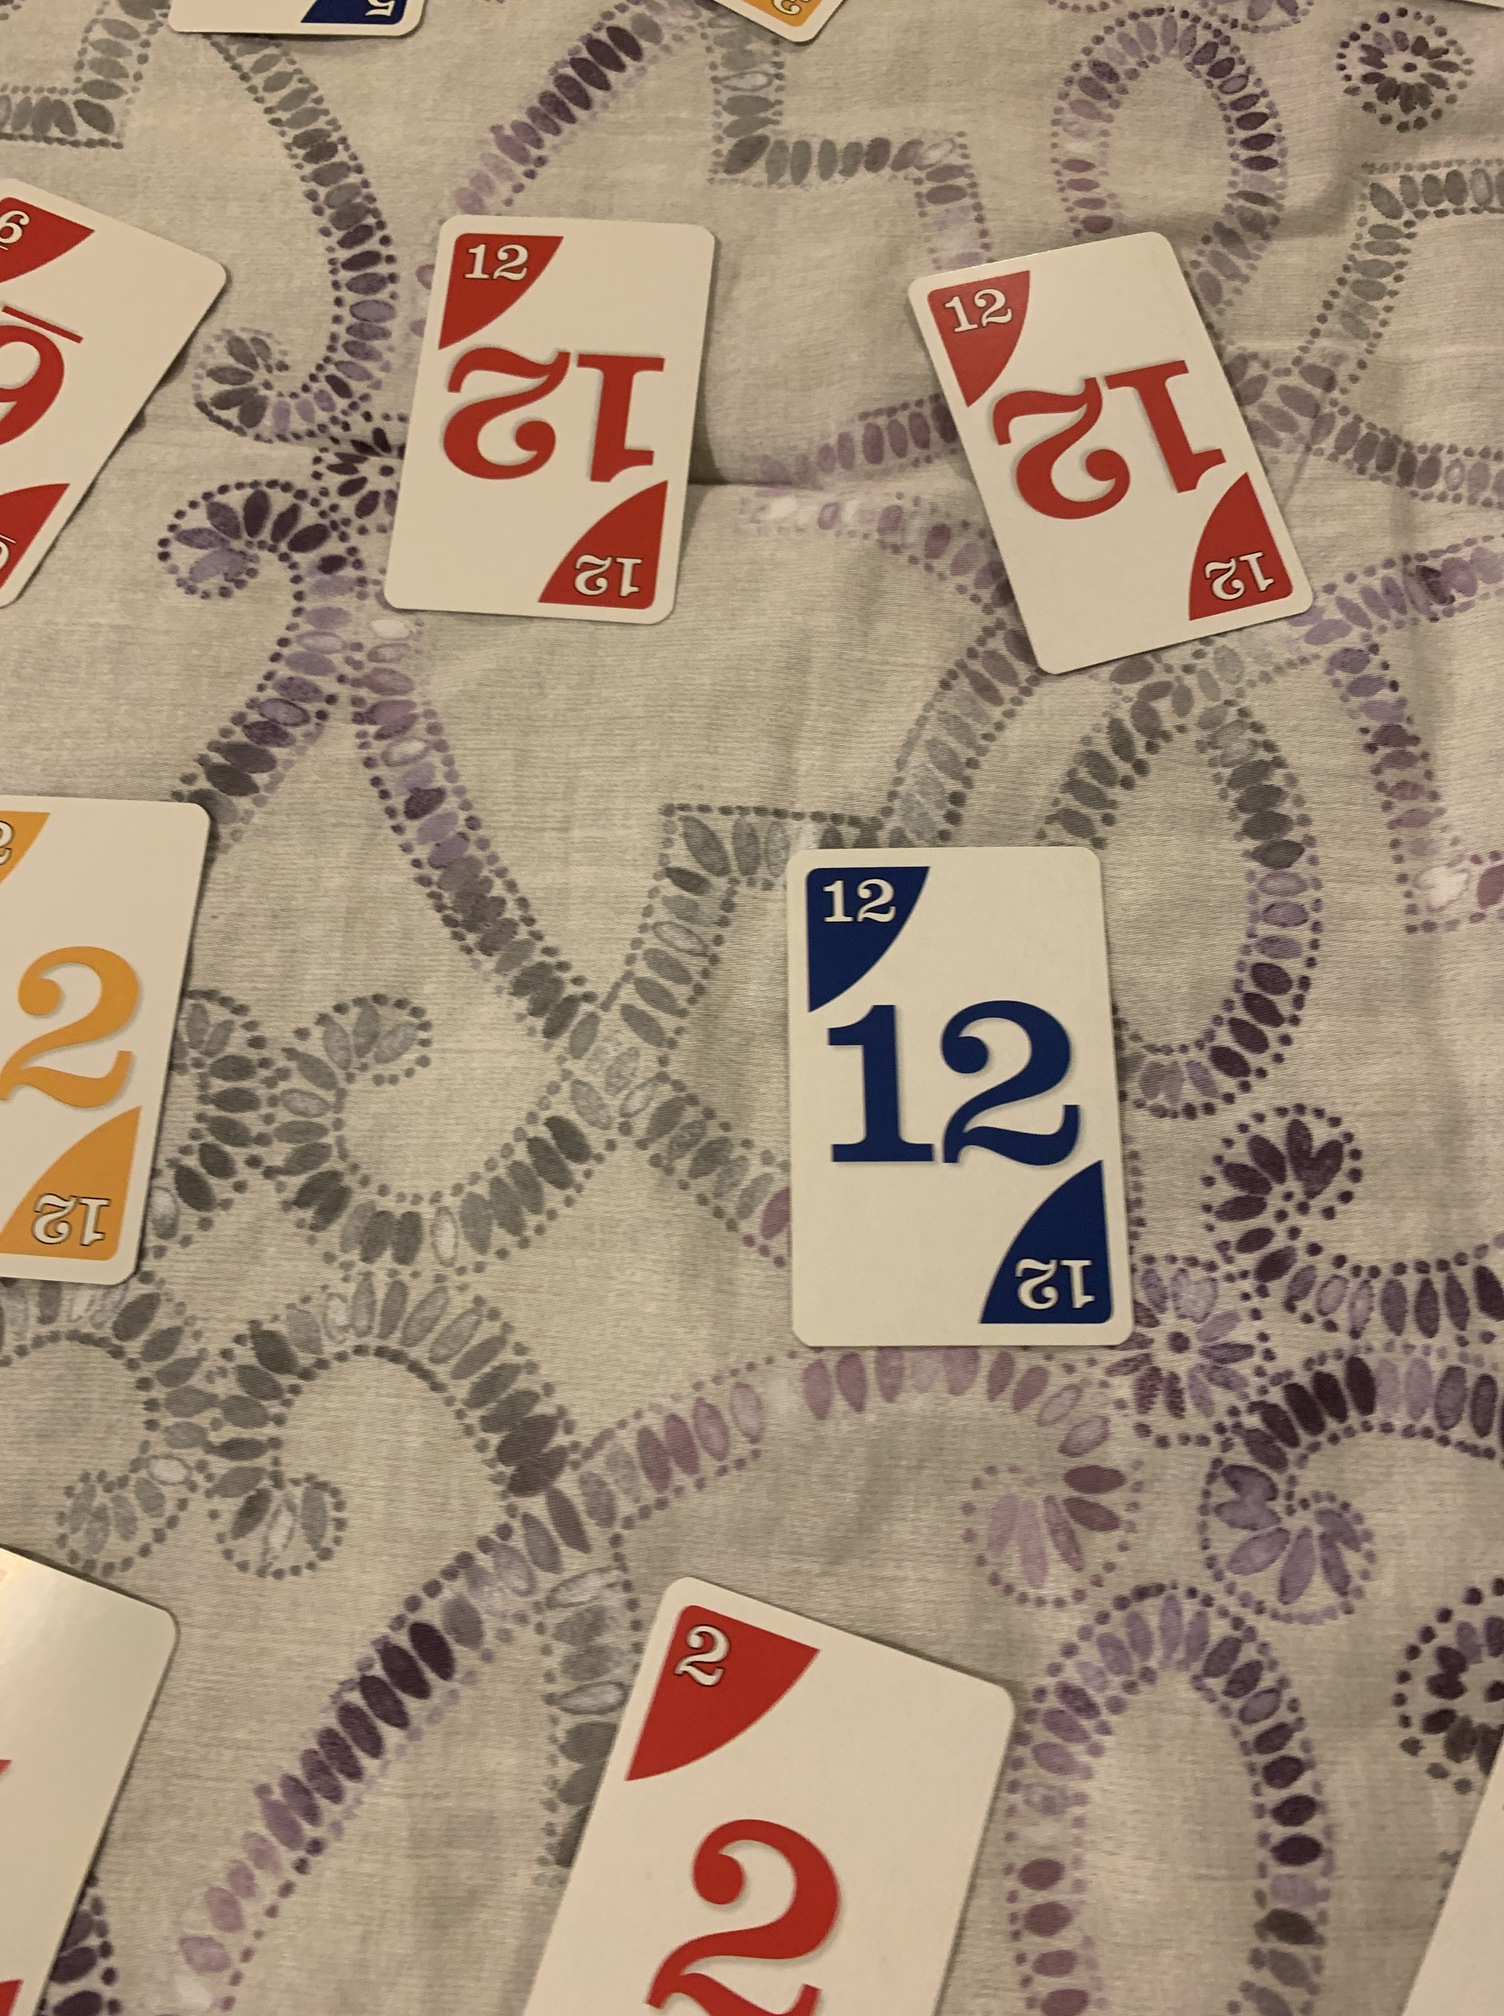twelve: (896, 220, 1321, 683), (769, 836, 1145, 1359), (385, 210, 724, 632)
two: (510, 1572, 1024, 2016), (3, 782, 215, 1299)
